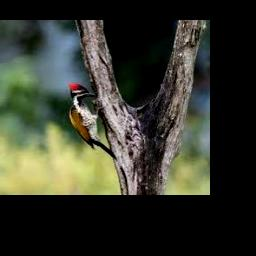Woodpecker: (69, 84, 117, 159)
